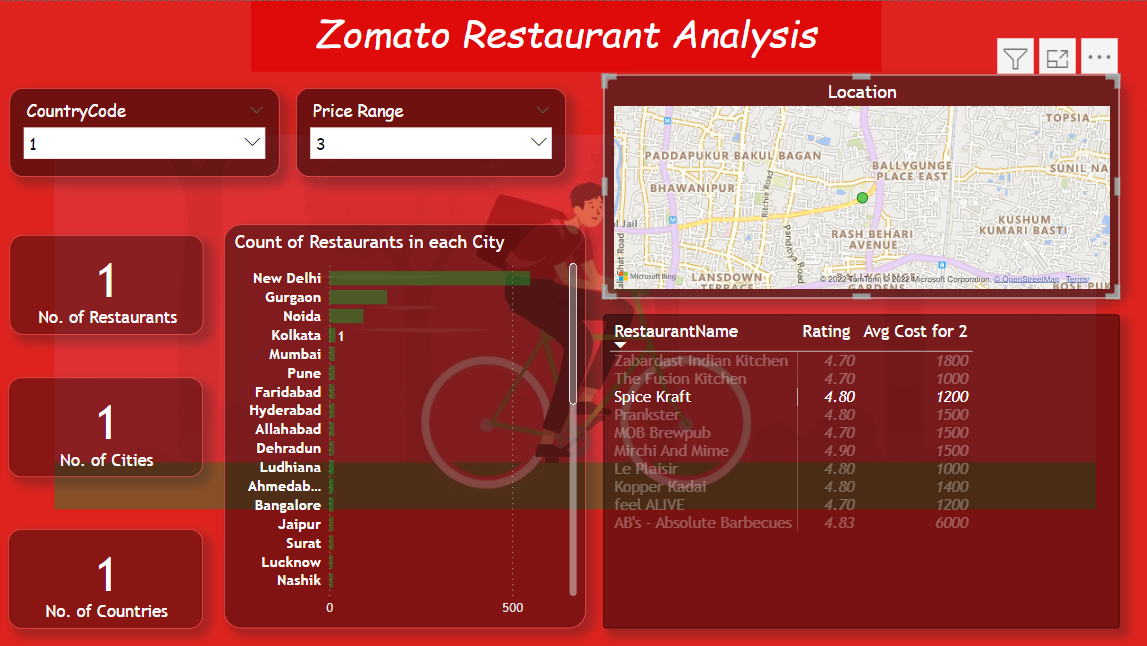

Layout of this report page (visuals, bound fields, positions):
{"tool":"powerbi","page":{"name":"Page 1","canvas":[1280,720],"ordinal":0},"visuals":[{"type":"card","fields":{"Values":["Count(ZomatoData.RestaurantID)"]},"box":[12.1,259.3,215.4,110.7],"z":0},{"type":"card","fields":{"Values":["Count(ZomatoData.City)"]},"box":[10.6,418.6,216.9,110.7],"z":1000},{"type":"card","fields":{"Values":["Count(ZomatoData.CountryCode)"]},"box":[10.6,586.9,216.9,110.7],"z":2000},{"type":"slicer","fields":{"Values":["ZomatoData.CountryCode"]},"box":[12.1,97.1,300.3,98.6],"z":3000},{"type":"slicer","fields":{"Values":["ZomatoData.Price_range"]},"box":[330.6,97.1,300.3,98.6],"z":4000},{"type":"clusteredBarChart","title":"Count of Restaurants in each City","fields":{"Category":["ZomatoData.City"],"Y":["CountNonNull(ZomatoData.RestaurantID)"]},"box":[250.2,248.7,401.9,448.9],"z":6000},{"type":"pivotTable","fields":{"Rows":["ZomatoData.RestaurantName"],"Values":["Avg(ZomatoData.Rating)","Sum(ZomatoData.Average_Cost_for_two)"]},"box":[671.8,348.8,573.3,348.8],"z":7000},{"type":"textbox","box":[280.6,0,700.7,78.9],"z":8000},{"type":"map","title":"Location","fields":{"Y":["ZomatoData.Latitude"],"X":["ZomatoData.Longitude"]},"box":[671.8,81.9,573.3,248.7],"z":9000}]}

Visuals, with their boxes in screenshot pixels (x1, y1, x2, y2), scaled from the page's 1280x720 canvas onto the 1147x646 screenshot:
card - Count(ZomatoData.RestaurantID): region(11, 233, 204, 332)
card - Count(ZomatoData.City): region(9, 376, 204, 475)
card - Count(ZomatoData.CountryCode): region(9, 527, 204, 626)
slicer - ZomatoData.CountryCode: region(11, 87, 280, 176)
slicer - ZomatoData.Price_range: region(296, 87, 565, 176)
"Count of Restaurants in each City" clusteredBarChart: region(224, 223, 584, 626)
pivotTable - ZomatoData.RestaurantName x Avg(ZomatoData.Rating): region(602, 313, 1116, 626)
textbox: region(251, 0, 879, 71)
"Location" map: region(602, 73, 1116, 297)
